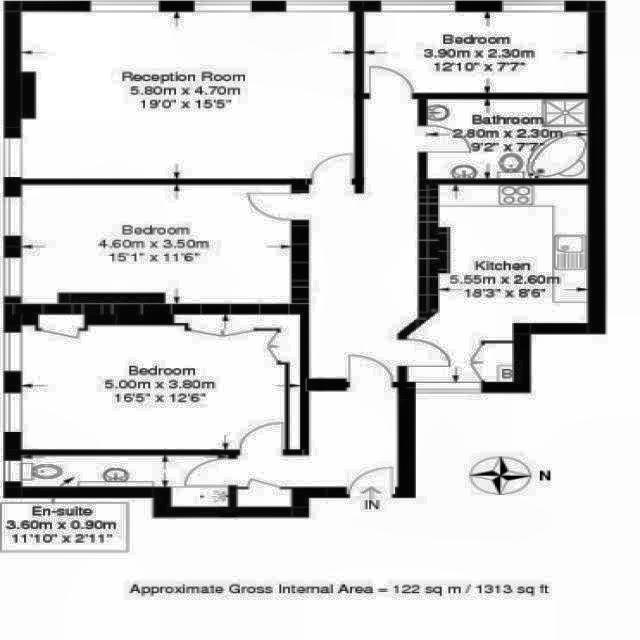room: (13, 376, 413, 549), (22, 13, 354, 178), (24, 315, 299, 448), (406, 185, 587, 383), (22, 186, 290, 304), (309, 99, 418, 383), (364, 13, 588, 92), (429, 100, 588, 177)
